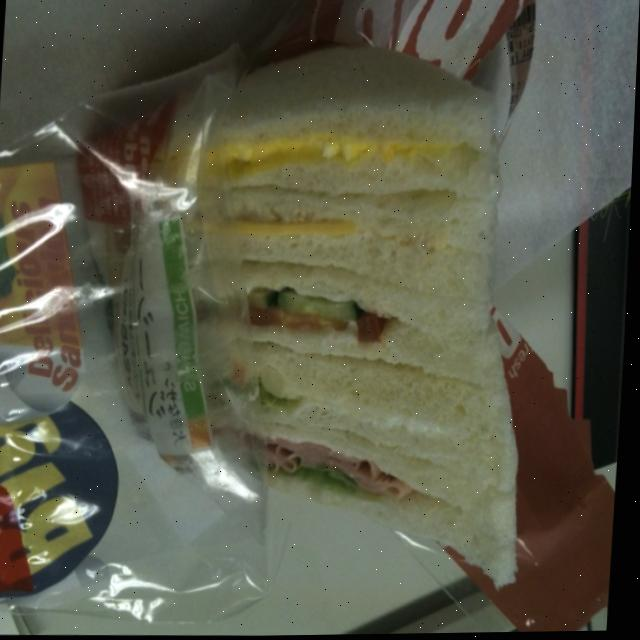三明治: (14, 11, 575, 620)
